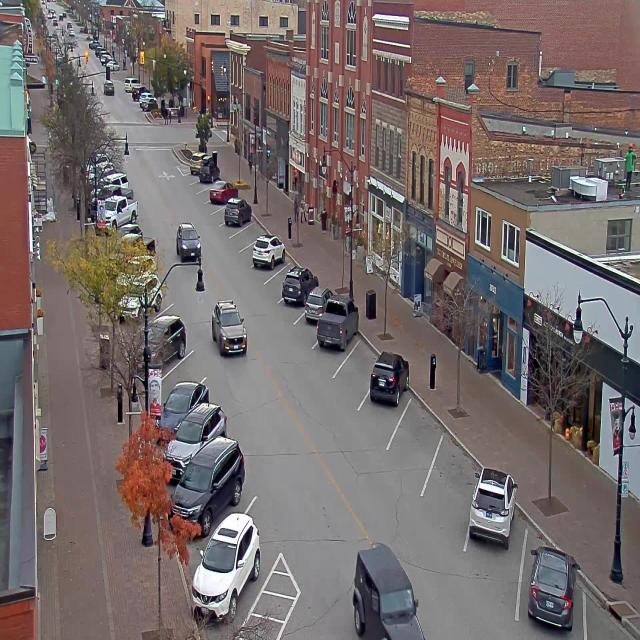available: (418, 441, 479, 515), (394, 387, 446, 468), (579, 588, 639, 640), (342, 332, 378, 390), (161, 343, 208, 385), (260, 260, 286, 303), (230, 218, 266, 248), (236, 236, 258, 271), (209, 208, 225, 230), (196, 185, 210, 206)
occupied: (188, 504, 272, 610), (169, 435, 245, 538), (167, 394, 233, 468), (527, 544, 580, 630), (468, 466, 517, 548), (155, 379, 209, 441), (316, 296, 358, 352), (368, 350, 409, 406), (142, 314, 187, 364), (282, 264, 318, 305), (252, 232, 285, 269), (224, 197, 251, 227), (304, 286, 325, 324), (208, 182, 235, 203), (198, 158, 220, 183), (188, 150, 204, 175)
